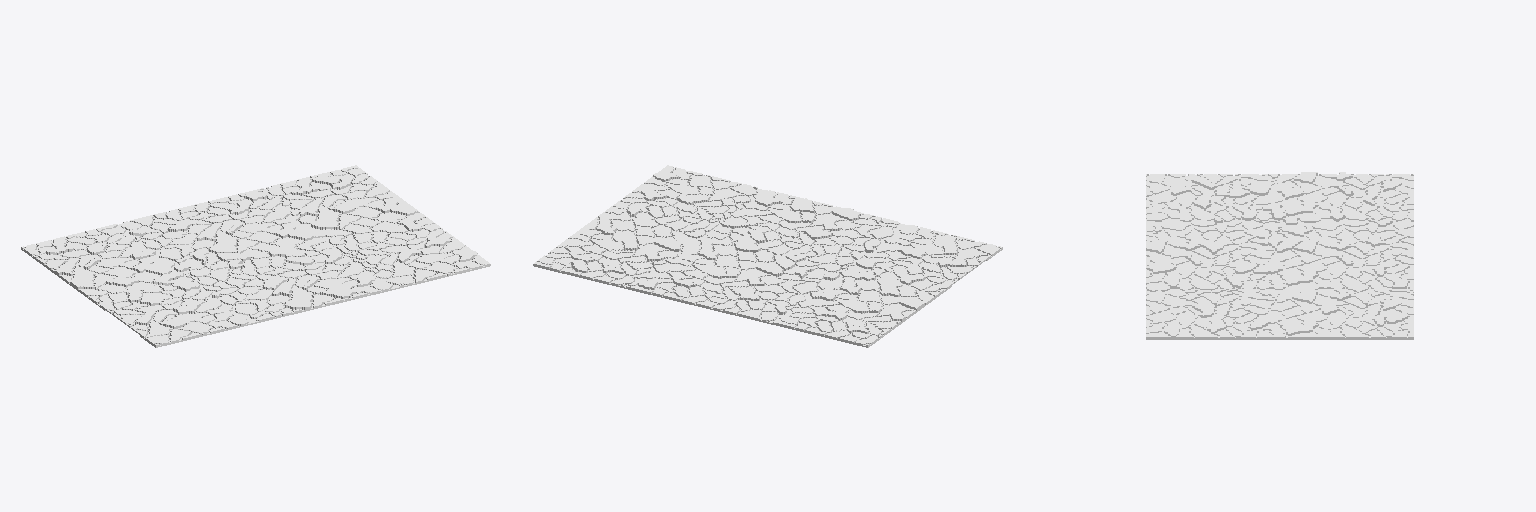
File: raisedflagstones.obj
3 renders of one model, left to right at view 1: azimuth 30°, elevation 25°; view 2: azimuth 150°, elevation 25°; view 3: azimuth 270°, elevation 25°, orthographic.
Parts seen in each view (by area): view 1: object 1; view 2: object 1; view 3: object 1.
Boxes of the visible parts, <box> form: object 1: <box>21,165,490,347</box>; object 1: <box>533,165,1002,347</box>; object 1: <box>1146,172,1413,339</box>.
Bounding box in the file's own units: 25.6 × 0.3 × 17.8.